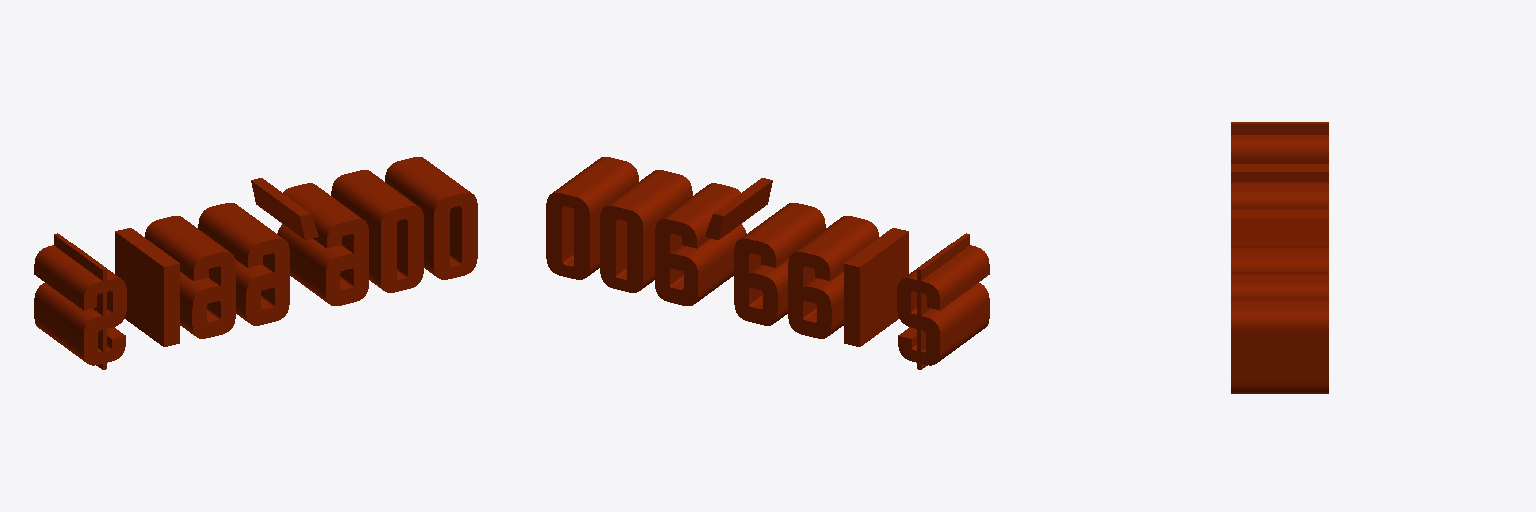
Rendered from precio_despues.obj.
3 views of the same model, side by side, from view 1: azimuth 30°, elevation 25°; view 2: azimuth 150°, elevation 25°; view 3: azimuth 270°, elevation 25° (orthographic).
Visible parts, largest first — view 1: Texto; view 2: Texto; view 3: Texto.
Part boxes in pixels (left/top/right/bottom): Texto: left=34, top=157, right=477, bottom=369; Texto: left=546, top=157, right=989, bottom=369; Texto: left=1231, top=122, right=1328, bottom=393.
Size of the model in its own units: 3.15 by 0.8079 by 0.68.